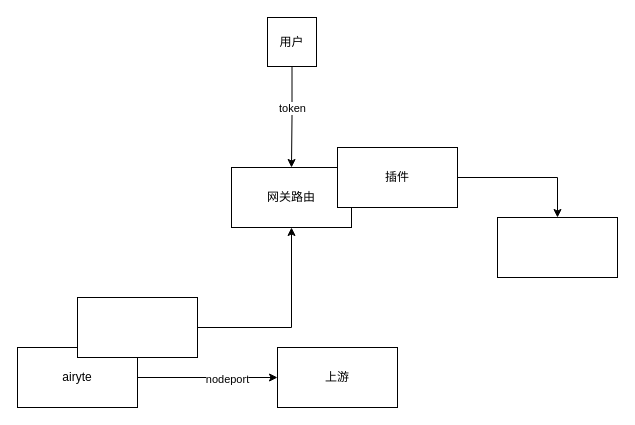
Image size: 635x425. Some labels were removed from this diagram. The shapes that lost their labels are listed below. From the top down, each one's box as (x1, y1, x2, y2) in pixels, then its label:
(496, 216, 618, 278): mysql
(76, 296, 198, 358): link
